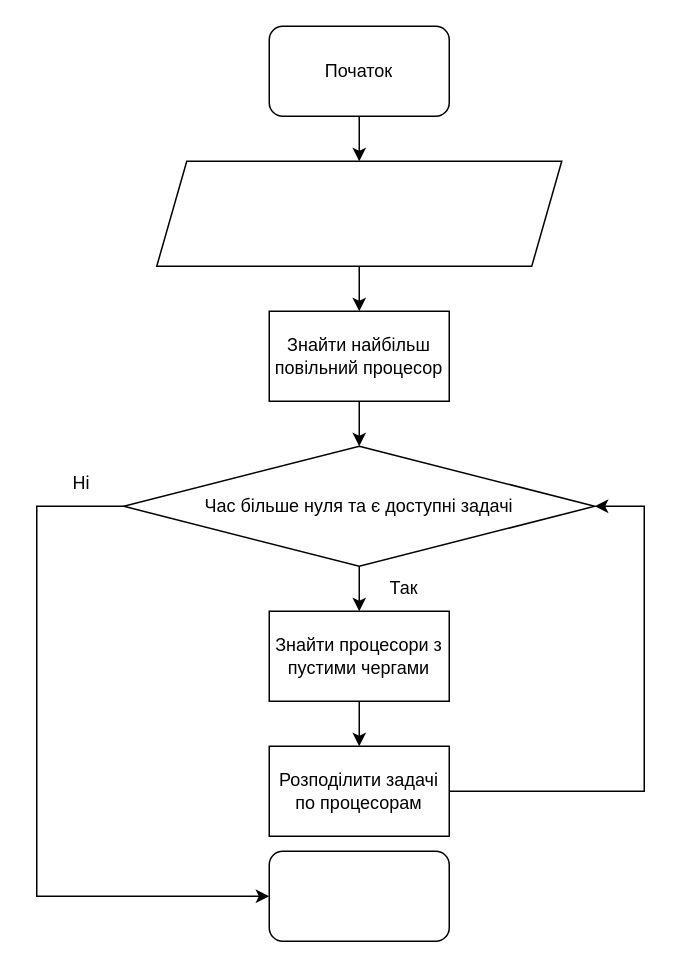
Some shapes in this 683 by 968 pixel diagram are drawn without their labels. The shapes that lost their labels are listed below. From the top down, each one's centre as x and y in pixels, then its label:
At pixel 358 213: "Отримати списки процесорів і задач, час".
At pixel 358 895: "Кінець".
